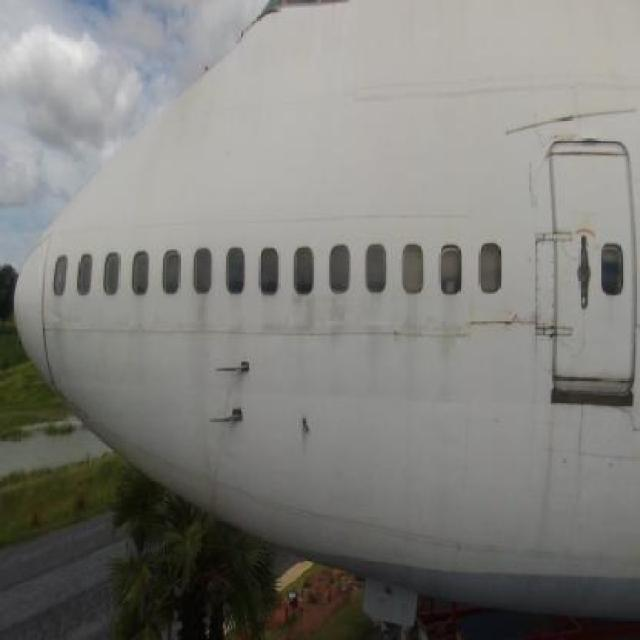Missing-Rivet: (532, 227, 554, 355)
Scartch: (489, 89, 640, 142), (461, 307, 530, 347), (520, 148, 548, 214)
